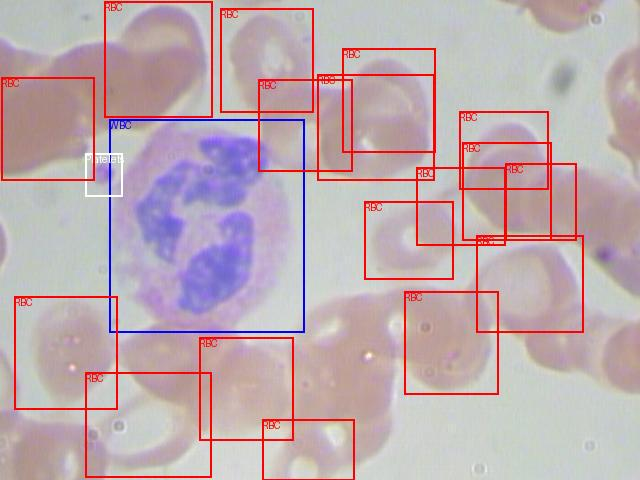Platelets: (85, 153, 122, 196)
RBC: (85, 372, 211, 477), (104, 1, 212, 117), (317, 74, 434, 180), (14, 296, 117, 409), (476, 235, 583, 332), (404, 291, 498, 394), (199, 337, 293, 440), (220, 8, 313, 112), (342, 48, 435, 152), (1, 77, 94, 180), (462, 142, 551, 240), (258, 79, 352, 171), (364, 201, 453, 279), (416, 167, 505, 245), (459, 111, 548, 189), (262, 419, 354, 480), (505, 163, 576, 240)
WBC: (109, 119, 304, 332)
